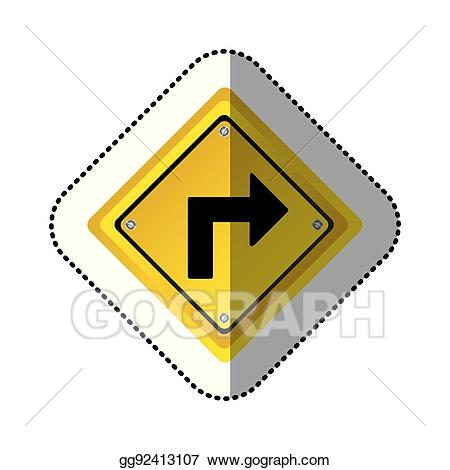right: (83, 85, 365, 367)
